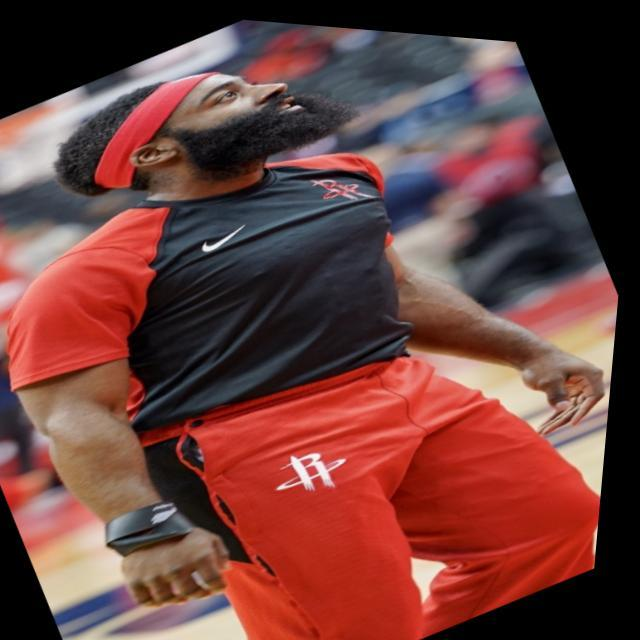Nonhelmet: (62, 56, 328, 203)
